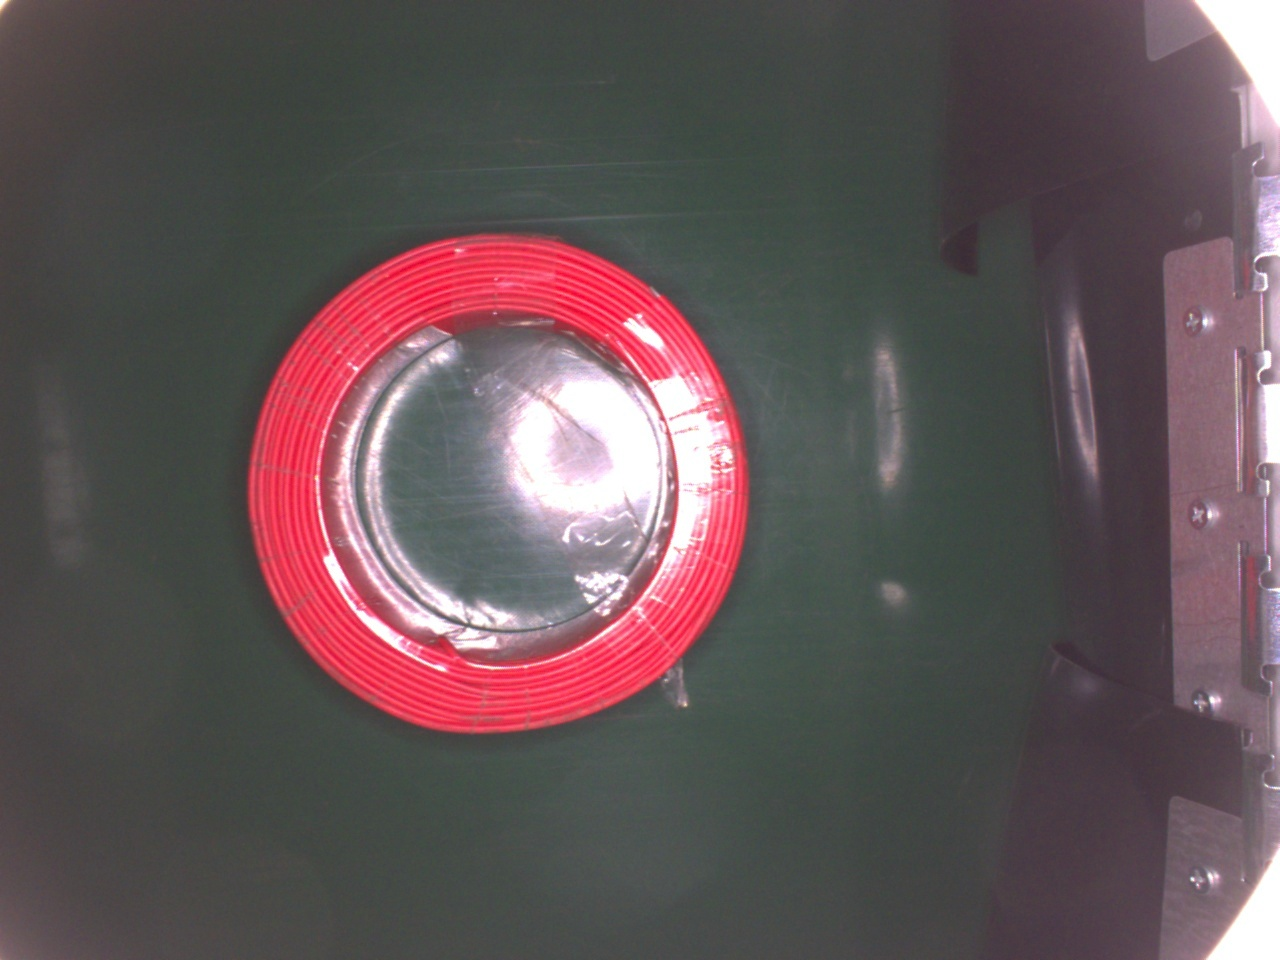red: (245, 233, 752, 734)
